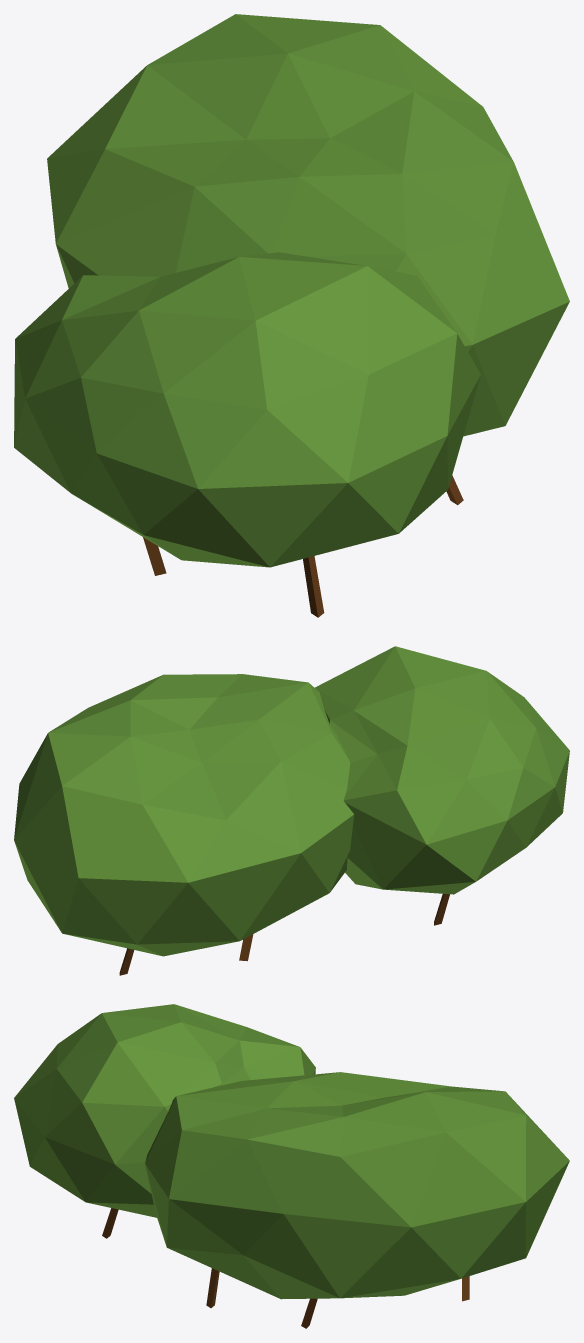
File: keskmine poosas elav.fbx
The picture shows the model from 3 angles, top to bottom: view 1: azimuth 30°, elevation 25°; view 2: azimuth 150°, elevation 25°; view 3: azimuth 270°, elevation 25°; orthographic projection. The views are drawn at different scales.
Visible parts, largest first — view 1: keskmine terve; view 2: keskmine terve; view 3: keskmine terve.
Boxes of the visible parts, x1,y1,x2,y2 form: keskmine terve: (14, 14, 569, 617); keskmine terve: (14, 646, 569, 975); keskmine terve: (14, 1004, 569, 1328).
Bounding box in the file's own units: 266 × 142 × 335.
